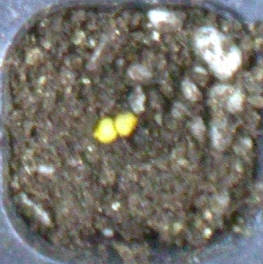pepper seed: (44, 41, 184, 180), (32, 44, 151, 188)
